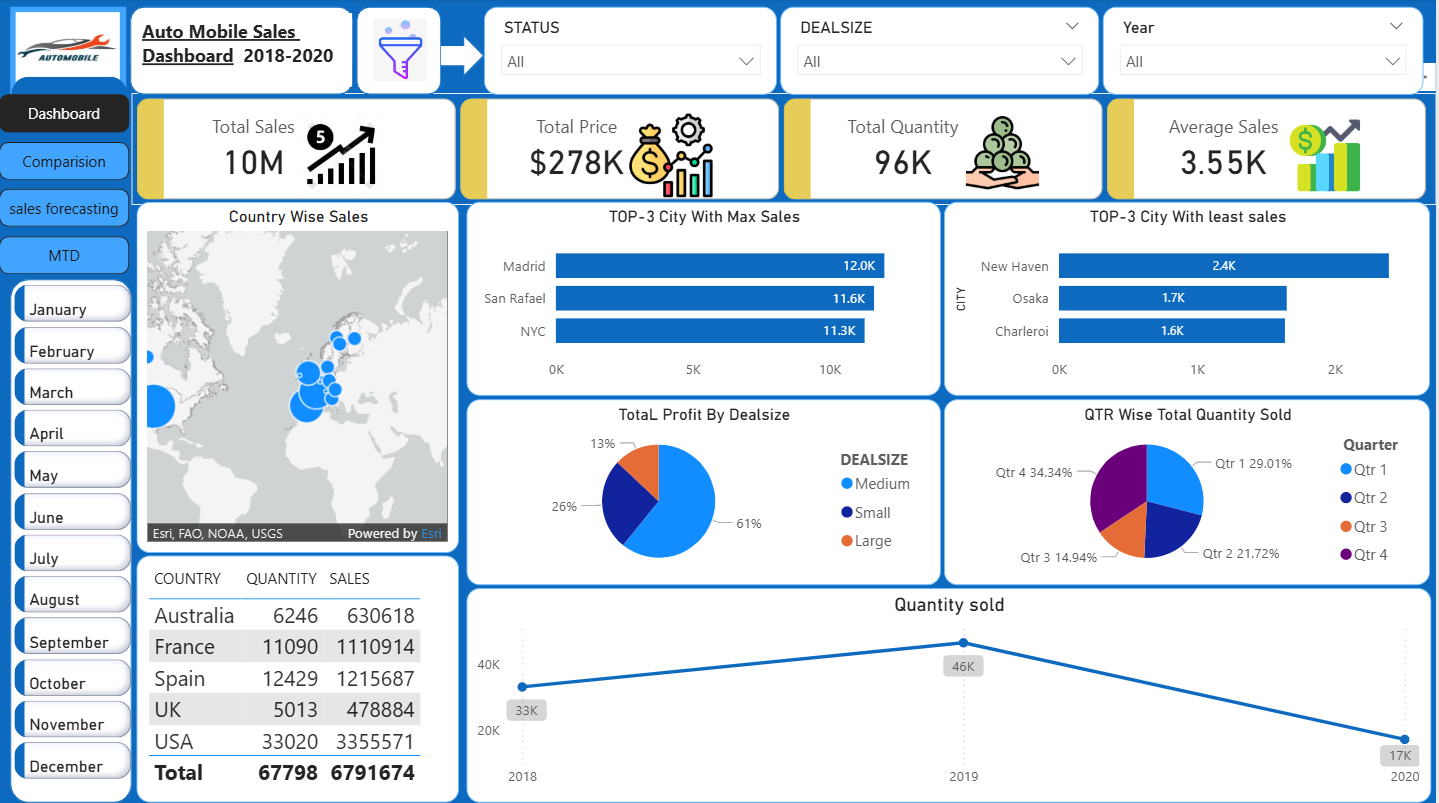

Layout of this report page (visuals, bound fields, positions):
{"tool":"powerbi","page":{"name":"Dashboard","canvas":[1280,720],"ordinal":0},"visuals":[{"type":"shape","box":[8.2,8.2,102.9,60.4],"z":0},{"type":"image","box":[9.6,8.2,102.9,78],"z":1000},{"type":"shape","box":[11,70,102.9,138.6],"z":2000},{"type":"shape","box":[10,250.3,108.3,466.3],"z":2000,"group":"g2"},{"type":"cardVisual","fields":{"Data":["Sum(Auto mobile Sales data.SALES)","Sum(Auto mobile Sales data.PRICE)","Sum(Auto mobile Sales data.QUANTITY ORDERED)","Avg(Auto mobile Sales data.SALES)"]},"box":[117.8,84.7,1162,100.6],"z":3000},{"type":"slicer","fields":{"Values":["Auto mobile Sales data.STATUS"]},"box":[432.2,8.2,261,78.2],"z":4000},{"type":"advancedSlicerVisual","fields":{"Values":["Auto mobile Sales data.ORDER DATE.Variation.Date Hierarchy.Month"]},"box":[8.6,250.3,114.1,456.1],"z":4000,"group":"g2"},{"type":"slicer","fields":{"Values":["Auto mobile Sales data.DEALSIZE"]},"box":[695.7,8.2,284,78.2],"z":5000},{"type":"slicer","fields":{"Values":["Auto mobile Sales data.ORDER DATE.Variation.Date Hierarchy.Year"]},"box":[982.5,8.2,285.4,78.2],"z":6000},{"type":"shape","box":[318.4,8.2,75.5,78.2],"z":7000,"group":"g3"},{"type":"shape","box":[391.4,31.9,40.5,38],"z":7000},{"type":"esriVisual","title":"Country Wise Sales","fields":{"Location":["Auto mobile Sales data.COUNTRY"],"Size":["Sum(Auto mobile Sales data.SALES)"]},"box":[122.7,181.6,287.1,312.9],"z":8000},{"type":"image","box":[328,13.7,57.6,65.9],"z":9000,"group":"g3"},{"type":"lineChart","title":"Quantity sold","fields":{"Y":["Sum(Auto mobile Sales data.QUANTITY ORDERED)"],"Category":["Auto mobile Sales data.ORDER DATE.Variation.Date Hierarchy.Year"]},"box":[416,525.2,858.9,191.4],"z":9000},{"type":"barChart","title":"TOP-3 City With least  sales","fields":{"Category":["Auto mobile Sales data.CITY"],"Y":["Min(Auto mobile Sales data.SALES)"]},"box":[841.7,181.6,433.1,173],"z":10000},{"type":"shape","box":[116.6,8.2,198,78.2],"z":11000,"group":"g1"},{"type":"pieChart","title":"TotaL Profit By Dealsize","fields":{"Category":["Auto mobile Sales data.DEALSIZE"],"Y":["Sum(Auto mobile Sales data.PROFIT)"]},"box":[416,357.1,422.1,165.6],"z":11000},{"type":"textbox","box":[122.3,13.7,192.3,65.9],"z":12000,"group":"g1"},{"type":"barChart","title":"TOP-3 City With Max Sales","fields":{"Y":["Max(Auto mobile Sales data.SALES)"],"Category":["Auto mobile Sales data.CITY"]},"box":[416,181.6,422.1,173],"z":12000},{"type":"pieChart","title":"QTR Wise Total Quantity Sold","fields":{"Category":["Auto mobile Sales data.ORDER DATE.Variation.Date Hierarchy.Quarter"],"Y":["Sum(Auto mobile Sales data.QUANTITY ORDERED)"]},"box":[841.7,357.1,433.1,165.6],"z":13000},{"type":"tableEx","fields":{"Values":["Auto mobile Sales data.COUNTRY","Sum(Auto mobile Sales data.QUANTITY ORDERED)","Sum(Auto mobile Sales data.SALES)"]},"box":[122.7,496.9,287.1,219.6],"z":14000},{"type":"pageNavigator","box":[0,85.9,116.6,160.7],"z":15000},{"type":"group","id":"g1","title":"Group 1","box":[116.6,8.2,198,78.2],"z":16000},{"type":"group","id":"g2","title":"Group 2","box":[8.6,250.3,114.1,466.3],"z":17000},{"type":"group","id":"g3","title":"Group 3","box":[318.4,8.2,75.5,78.2],"z":18000}]}

Visuals, with their boxes in screenshot pixels (x1, y1, x2, y2), scaled from the page's 1280x720 canvas onto the 1439x803 screenshot:
shape: pyautogui.locateOnScreen(9, 9, 125, 77)
image: pyautogui.locateOnScreen(11, 9, 126, 96)
shape: pyautogui.locateOnScreen(12, 78, 128, 233)
shape: pyautogui.locateOnScreen(11, 279, 133, 799)
cardVisual - Sum(Auto mobile Sales data.SALES) x Sum(Auto mobile Sales data.PRICE): pyautogui.locateOnScreen(132, 94, 1438, 207)
slicer - Auto mobile Sales data.STATUS: pyautogui.locateOnScreen(486, 9, 779, 96)
advancedSlicerVisual - Auto mobile Sales data.ORDER DATE.Variation.Date Hierarchy.Month: pyautogui.locateOnScreen(10, 279, 138, 788)
slicer - Auto mobile Sales data.DEALSIZE: pyautogui.locateOnScreen(782, 9, 1101, 96)
slicer - Auto mobile Sales data.ORDER DATE.Variation.Date Hierarchy.Year: pyautogui.locateOnScreen(1105, 9, 1425, 96)
shape: pyautogui.locateOnScreen(358, 9, 443, 96)
shape: pyautogui.locateOnScreen(440, 36, 486, 78)
"Country Wise Sales" esriVisual: pyautogui.locateOnScreen(138, 203, 461, 552)
image: pyautogui.locateOnScreen(369, 15, 433, 89)
"Quantity sold" lineChart: pyautogui.locateOnScreen(468, 586, 1433, 799)
"TOP-3 City With least  sales" barChart: pyautogui.locateOnScreen(946, 203, 1433, 395)
shape: pyautogui.locateOnScreen(131, 9, 354, 96)
"TotaL Profit By Dealsize" pieChart: pyautogui.locateOnScreen(468, 398, 942, 583)
textbox: pyautogui.locateOnScreen(137, 15, 354, 89)
"TOP-3 City With Max Sales" barChart: pyautogui.locateOnScreen(468, 203, 942, 395)
"QTR Wise Total Quantity Sold" pieChart: pyautogui.locateOnScreen(946, 398, 1433, 583)
tableEx - Auto mobile Sales data.COUNTRY x Sum(Auto mobile Sales data.QUANTITY ORDERED): pyautogui.locateOnScreen(138, 554, 461, 799)
pageNavigator: pyautogui.locateOnScreen(0, 96, 131, 275)
"Group 1" group: pyautogui.locateOnScreen(131, 9, 354, 96)
"Group 2" group: pyautogui.locateOnScreen(10, 279, 138, 799)
"Group 3" group: pyautogui.locateOnScreen(358, 9, 443, 96)
